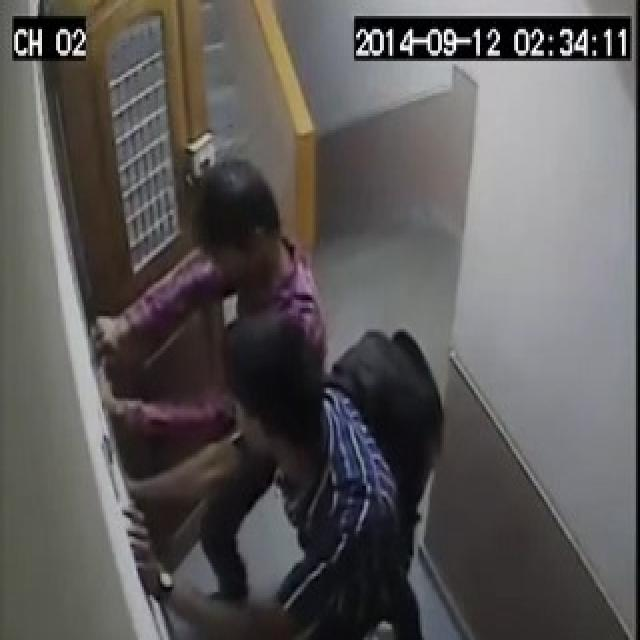thief: (90, 159, 429, 640)
